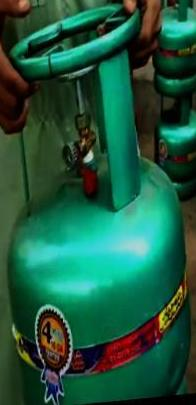cylinder: (1, 1, 196, 405)
